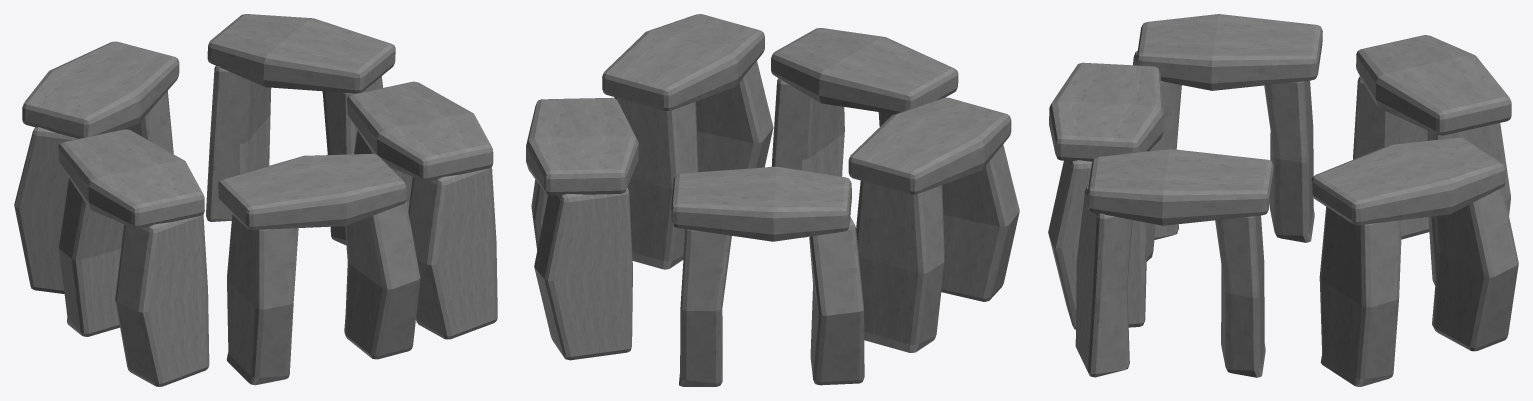
The model's file is StoneFormation.fbx.
3 views of the same model, side by side, from view 1: azimuth 30°, elevation 25°; view 2: azimuth 150°, elevation 25°; view 3: azimuth 270°, elevation 25° (orthographic). The views are drawn at different scales.
Parts seen in each view (by area): view 1: stone_formation; view 2: stone_formation; view 3: stone_formation.
Part boxes in pixels (x1,y1,x2,y2): stone_formation: [14, 14, 497, 386]; stone_formation: [526, 14, 1019, 386]; stone_formation: [1048, 14, 1518, 386].
Size of the model in its own units: 4.58 by 2.17 by 4.8.
